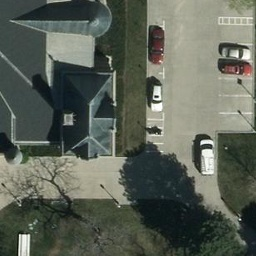car: (197, 139, 217, 174), (219, 60, 253, 79), (147, 27, 163, 64), (147, 84, 168, 112), (218, 41, 251, 58)
